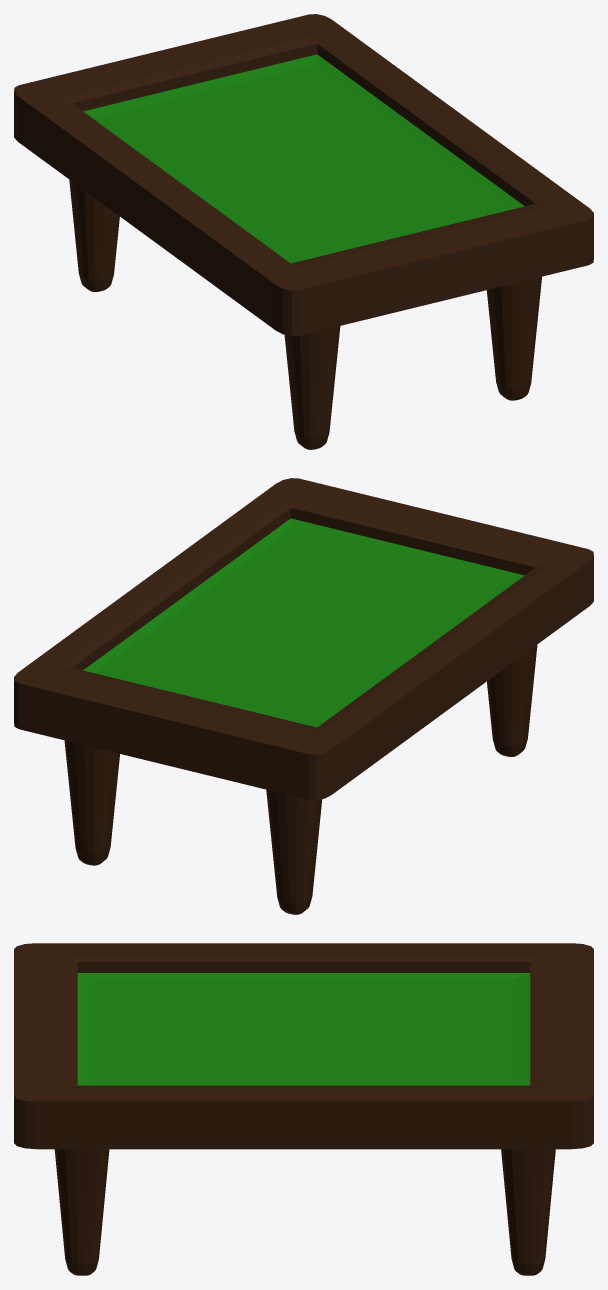
Rendered from CardTable.glb.
The picture shows the model from 3 angles, top to bottom: view 1: azimuth 30°, elevation 25°; view 2: azimuth 150°, elevation 25°; view 3: azimuth 270°, elevation 25°; orthographic projection. The views are drawn at different scales.
Visible parts, largest first — view 1: Table, Leg.001, Leg.002, Leg.003; view 2: Table, Leg.003, Leg, Leg.001; view 3: Table, Leg, Leg.002.
Boxes of the visible parts, x1,y1,x2,y2 form: Table: [14, 14, 593, 336]; Leg.001: [284, 326, 340, 449]; Leg.002: [486, 276, 541, 400]; Leg.003: [69, 180, 119, 291]; Table: [14, 478, 593, 800]; Leg.003: [266, 789, 322, 914]; Leg: [64, 740, 119, 865]; Leg.001: [487, 644, 537, 756]; Table: [14, 943, 593, 1149]; Leg: [501, 1149, 555, 1275]; Leg.002: [54, 1149, 109, 1275].
Size of the model in its own units: 0.9657 by 0.5603 by 1.49.
2 materials, 1 textured.
